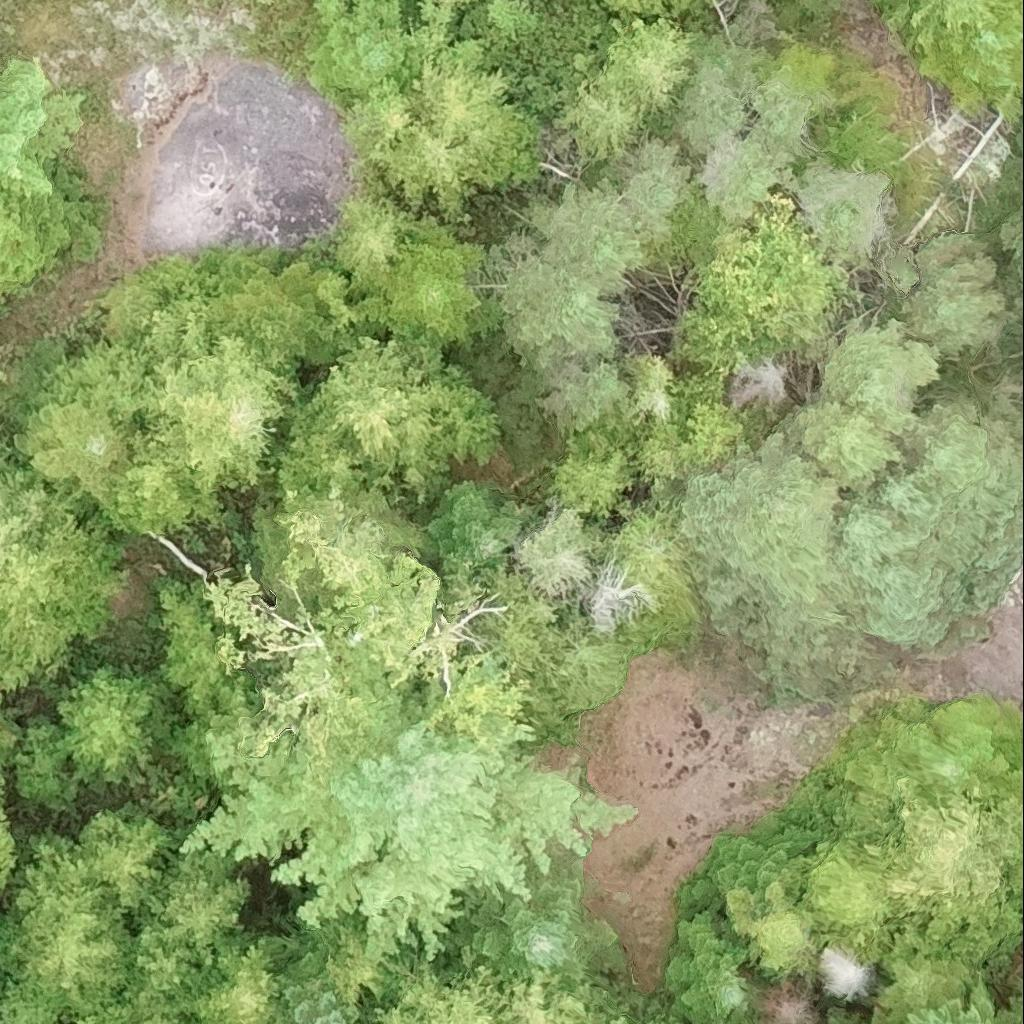crown: (679, 429, 875, 701), (834, 394, 1023, 647), (52, 311, 295, 493), (678, 195, 842, 360), (313, 336, 456, 488), (501, 262, 630, 430), (354, 218, 484, 344), (386, 331, 499, 464), (817, 316, 940, 435), (899, 231, 1005, 361), (211, 257, 329, 373), (14, 387, 133, 502), (530, 180, 648, 293), (0, 158, 99, 289), (102, 428, 220, 535), (920, 0, 1023, 122), (0, 56, 86, 190), (370, 121, 479, 219), (797, 400, 900, 493), (800, 156, 891, 255), (605, 19, 697, 113), (307, 22, 415, 102), (411, 55, 507, 144), (551, 69, 644, 160), (280, 397, 366, 492), (619, 138, 692, 241), (697, 132, 780, 219), (454, 106, 540, 187), (742, 81, 809, 173), (878, 0, 996, 52), (681, 61, 743, 153), (338, 197, 404, 280), (352, 77, 419, 148), (730, 355, 790, 409), (601, 0, 692, 25), (1000, 210, 1023, 276), (0, 393, 7, 411), (0, 365, 7, 382), (0, 287, 4, 305), (703, 0, 712, 6)
